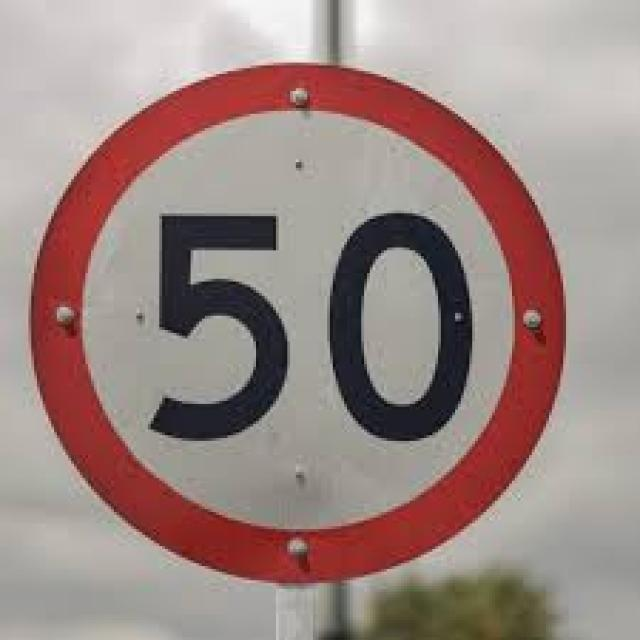Speed limit 50: (24, 58, 573, 590)
